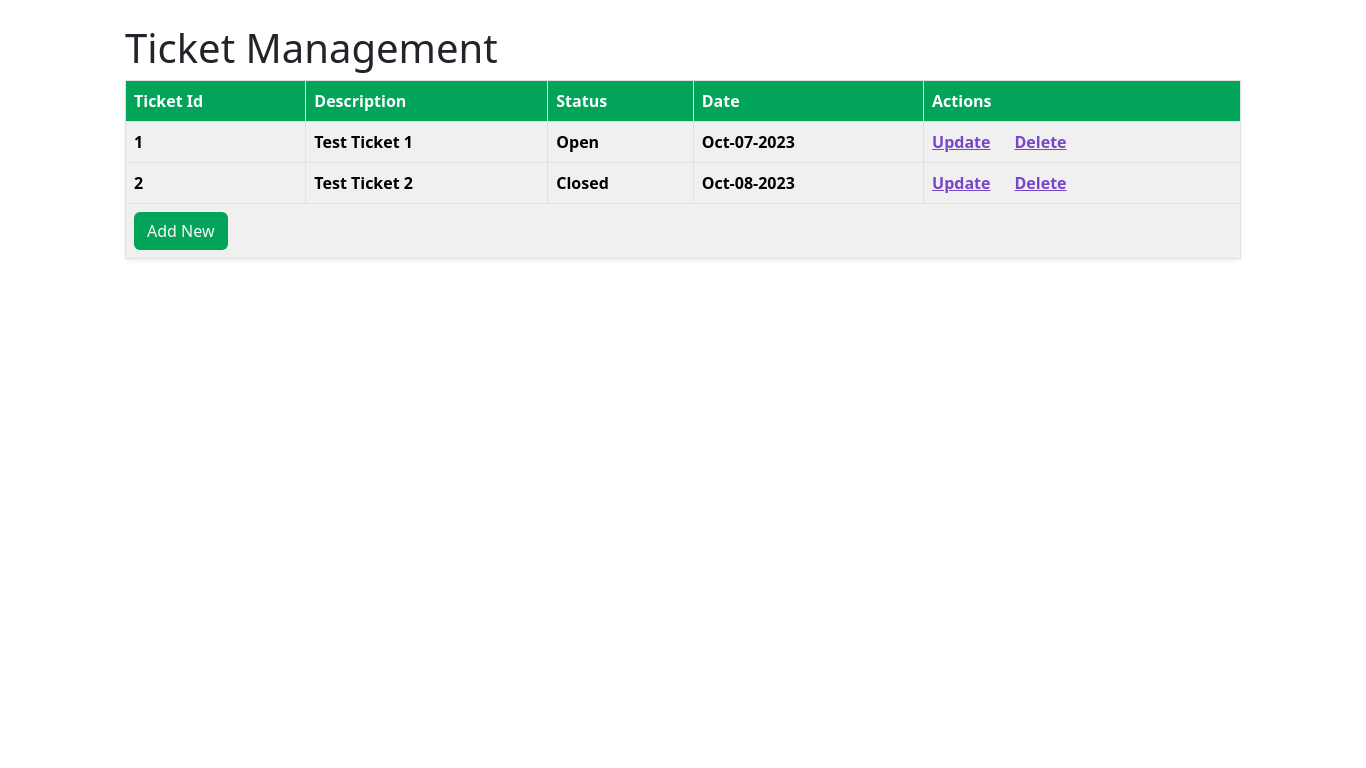
it: TicketList Component › opens delete confirmation modal on delete click
// Wait for tickets to render
Step 1. Click the link "Delete" in the row of "Test Ticket 1" → (1040, 142), box 1014,131 -> 1066,153
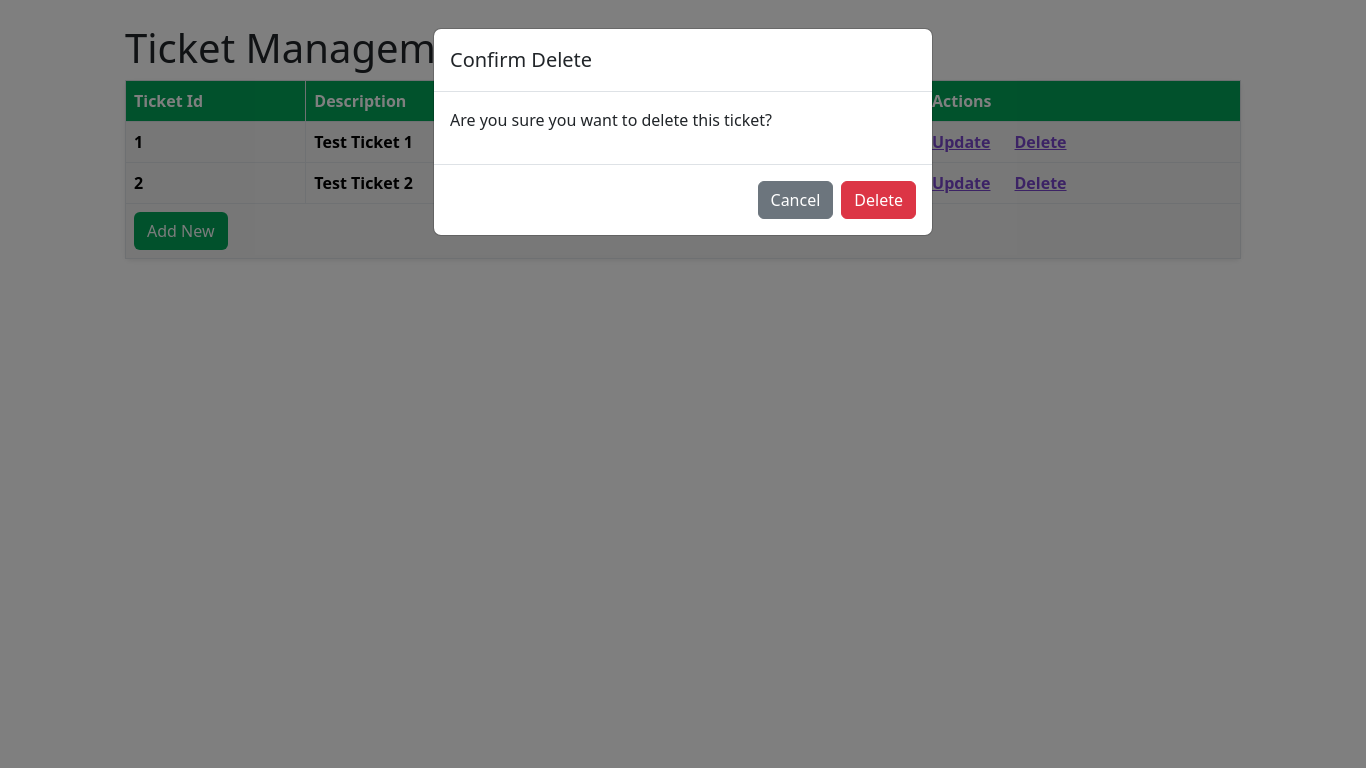
Now the heading "Confirm Delete" is shown, box 450,45 -> 592,75
